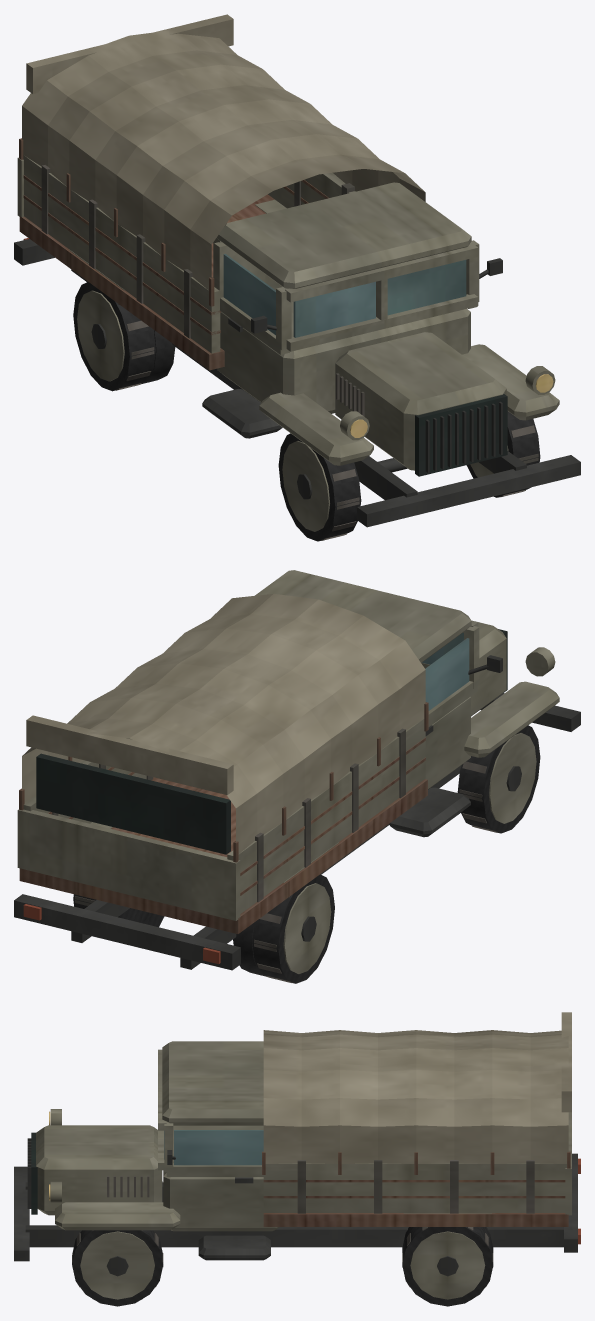
The model's file is opel-blitz-cargo.glb.
3 views of the same model, one above another, from view 1: azimuth 30°, elevation 25°; view 2: azimuth 150°, elevation 25°; view 3: azimuth 270°, elevation 25° (orthographic). The views are drawn at different scales.
Visible parts, largest first — view 1: Opel Blitz | Planenwagen; view 2: Opel Blitz | Planenwagen; view 3: Opel Blitz | Planenwagen.
Part boxes in pixels (x1=…): Opel Blitz | Planenwagen: x1=14, y1=14, x2=580, y2=541; Opel Blitz | Planenwagen: x1=14, y1=570, x2=580, y2=983; Opel Blitz | Planenwagen: x1=14, y1=1012, x2=580, y2=1306.
Size of the model in its own units: 2.48 by 2.59 by 6.1.
Materials: 1 (1 with a texture image).
